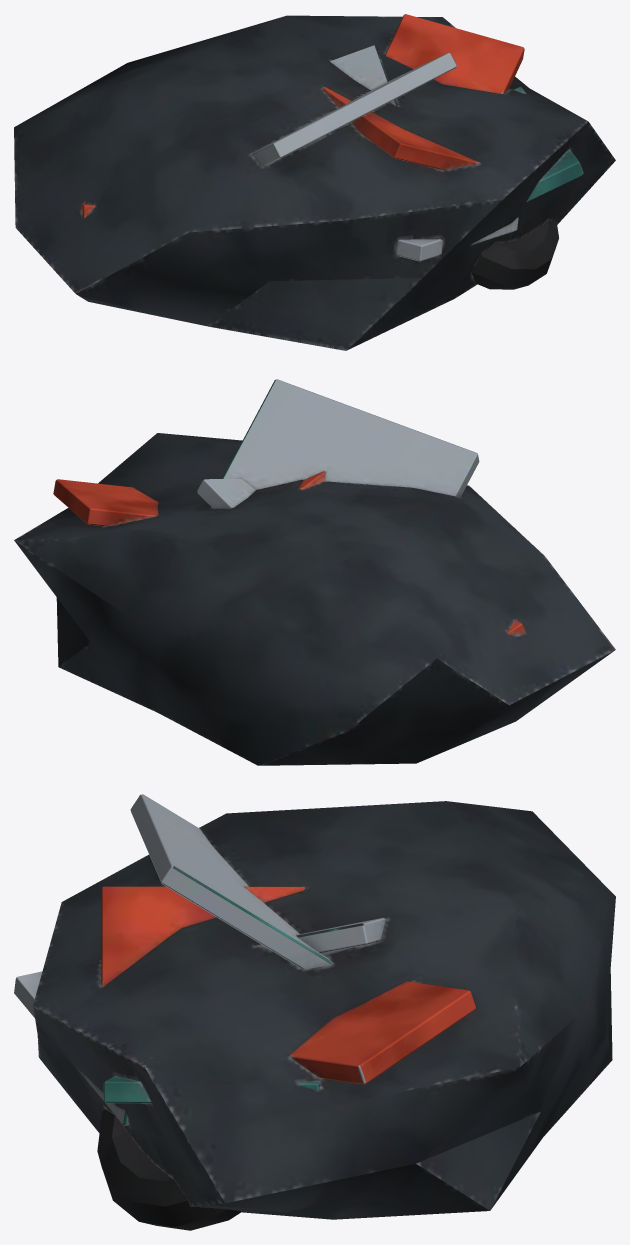
The model's file is scrap_pile_metal.glb.
The picture shows the model from 3 angles, top to bottom: view 1: azimuth 30°, elevation 25°; view 2: azimuth 150°, elevation 25°; view 3: azimuth 270°, elevation 25°; orthographic projection. The views are drawn at different scales.
Visible parts, largest first — view 1: ScrapPileMetal; view 2: ScrapPileMetal; view 3: ScrapPileMetal.
Part boxes in pixels (x1,y1,x2,y2): ScrapPileMetal: (14, 14, 615, 350); ScrapPileMetal: (14, 379, 615, 765); ScrapPileMetal: (14, 794, 615, 1230).
Bounding box in the file's own units: 2.95 × 1.25 × 2.18.
Materials: 1 (1 with a texture image).
